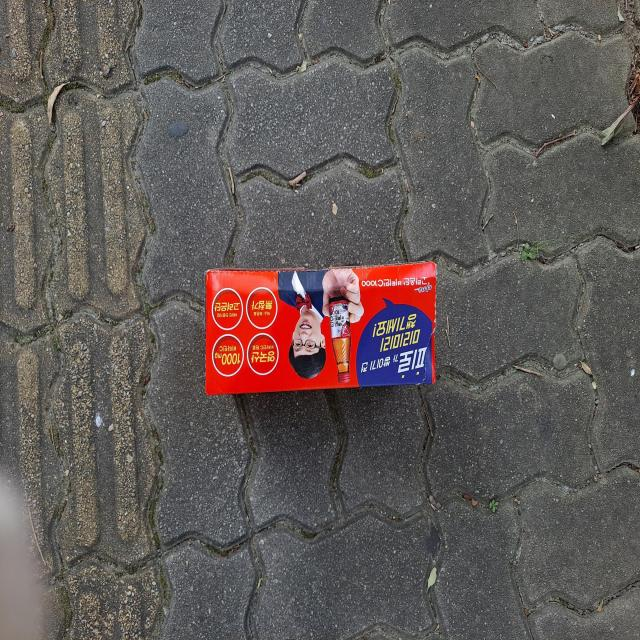paperpack: (205, 262, 437, 395)
